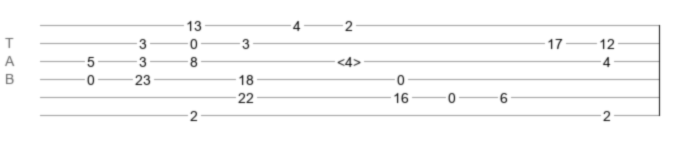0: (87, 72, 95, 82), (190, 36, 198, 46), (397, 72, 405, 82), (448, 90, 456, 100)
12: (599, 36, 615, 46)
13: (186, 18, 202, 28)
16: (393, 90, 409, 100)
17: (547, 36, 563, 46)
18: (238, 72, 254, 82)
2: (190, 108, 198, 118), (345, 18, 353, 28), (603, 108, 611, 118)
22: (238, 90, 254, 100)
23: (135, 72, 151, 82)
3: (139, 54, 147, 64), (139, 36, 147, 46), (242, 36, 250, 46)
4: (293, 18, 301, 28), (603, 54, 611, 64)
5: (87, 54, 95, 64)
6: (500, 90, 508, 100)
8: (190, 54, 198, 64)
harmonic: (337, 54, 361, 64)
